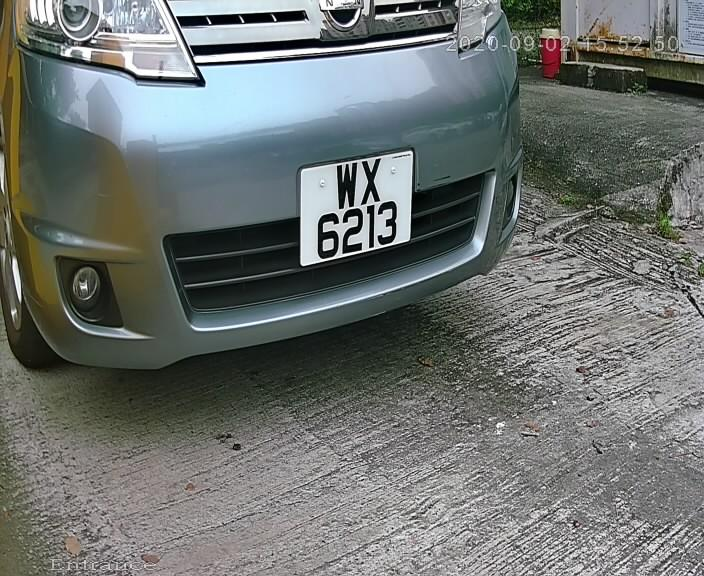License Plate: (296, 139, 415, 276)
